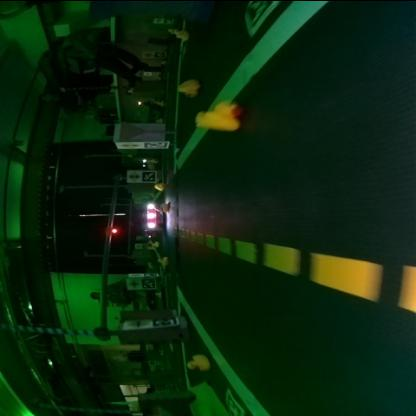Duckie: (194, 101, 242, 125), (178, 78, 198, 95), (186, 352, 208, 366), (176, 31, 188, 39), (158, 202, 166, 210), (156, 256, 166, 262), (155, 182, 163, 187)
Duckiebot: (140, 203, 164, 233)
Intersection sign: (126, 318, 148, 326), (128, 278, 142, 288)
QR code: (223, 388, 244, 414), (150, 316, 178, 324), (144, 140, 166, 146), (142, 170, 154, 180), (142, 277, 154, 286)
Signal sign: (119, 141, 142, 147), (128, 170, 140, 180)
Traffic light: (108, 227, 118, 232)
